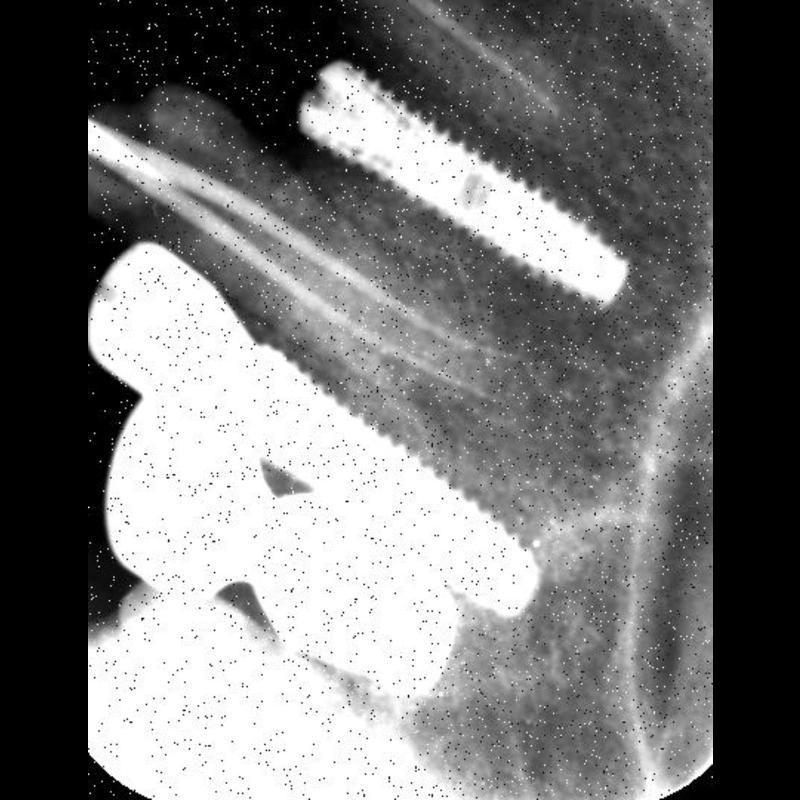Dentium: (298, 58, 635, 308)
